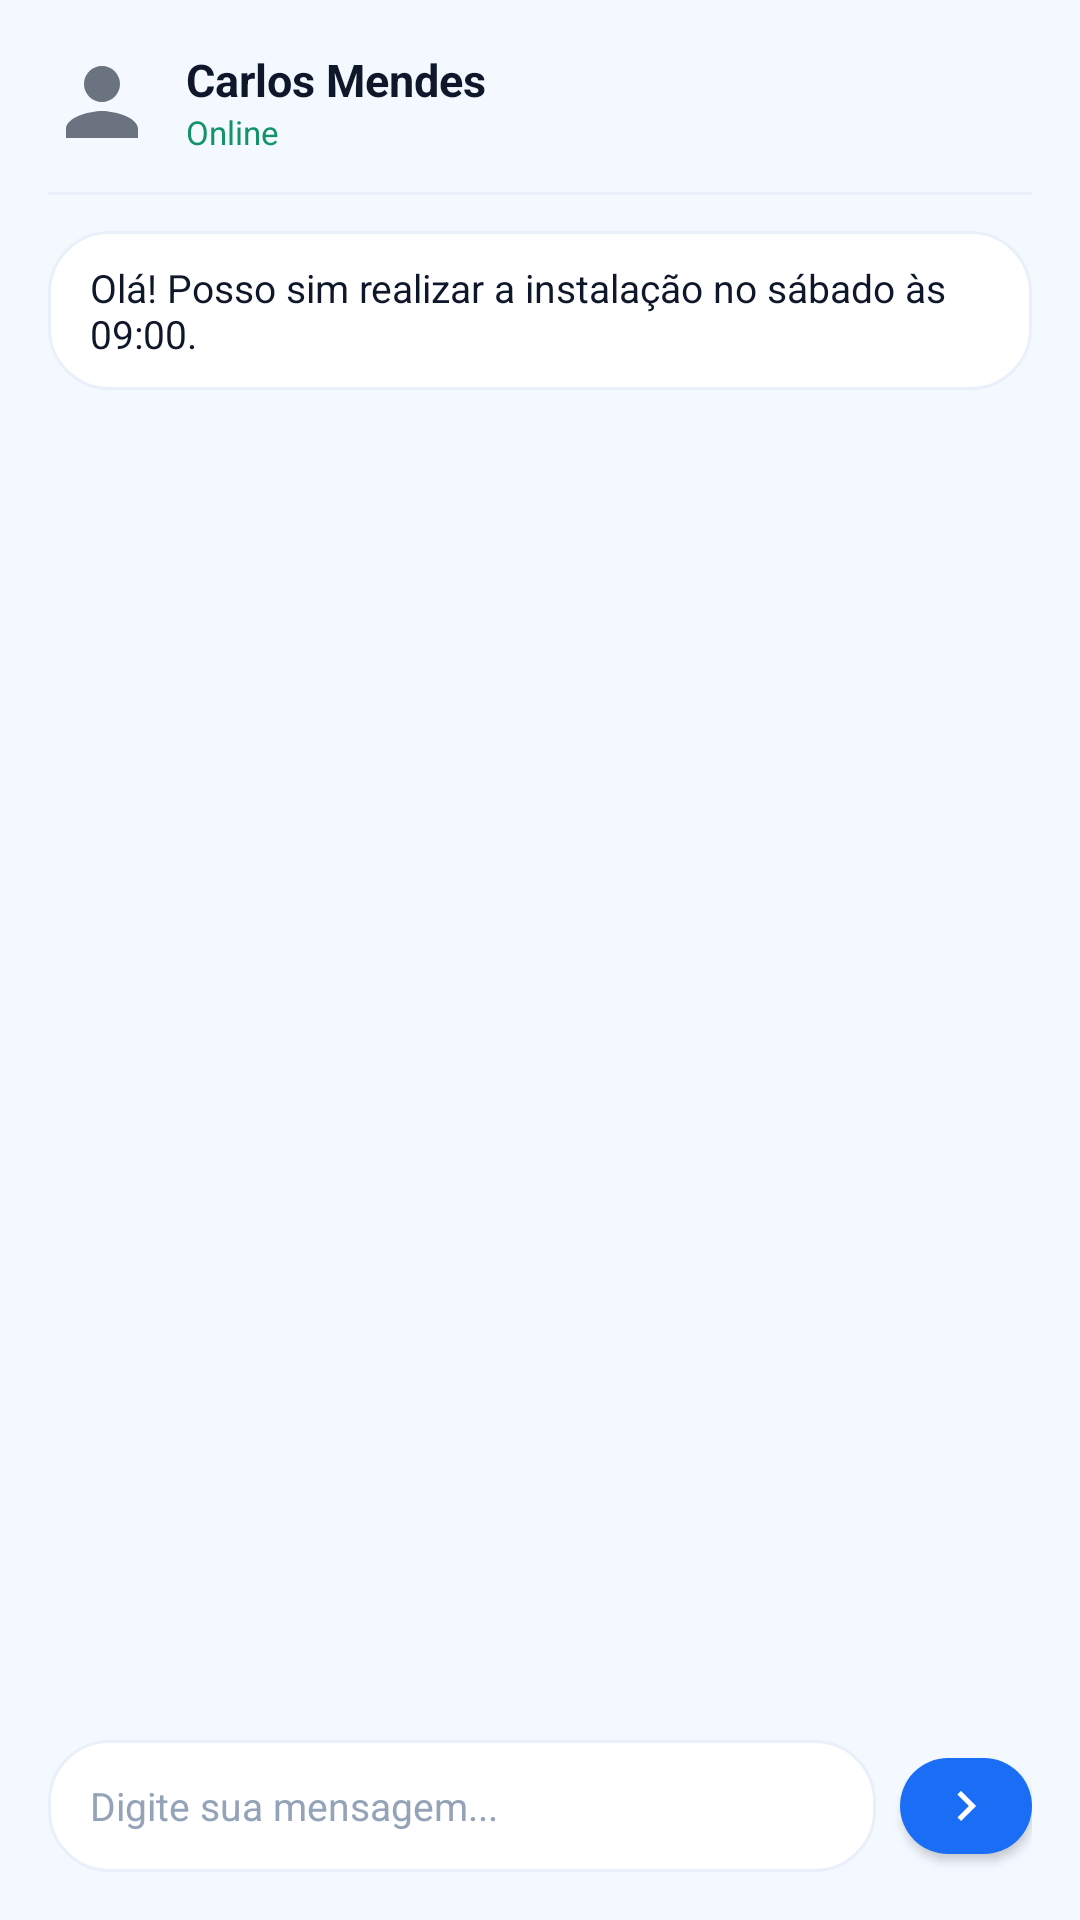

Where icons sit on this 1080x1920 app screen, as {"left": x1, "top": y1, "right": x2, "bottom": y2}:
chevron right: {"left": 900, "top": 1758, "right": 1032, "bottom": 1860}
profile: {"left": 66, "top": 66, "right": 138, "bottom": 138}
